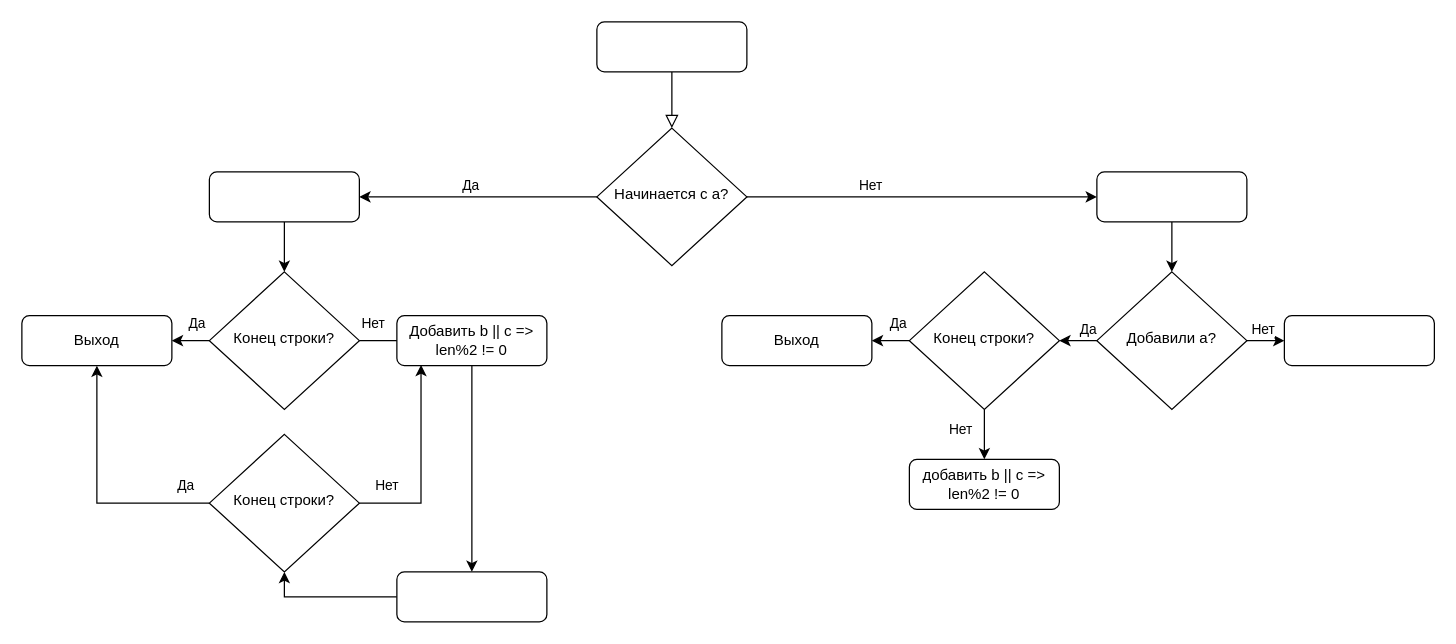
This 1456x644 diagram has some shape labels left out. The centre of each missing label's shape, as x and y in pixels:
len%2 != 0, добавить b || c: the point at 283,196
len%2 != 0, добавить b || c || a: the point at 1171,196
len%2 = 0, добавить b || c: the point at 1358,340
Входная стркоа: the point at 671,46
Добавить b || c => len%2 = 0: the point at 471,596
